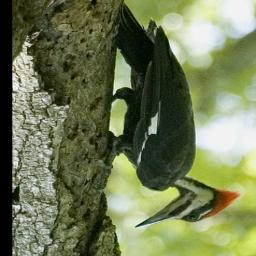Woodpecker: (106, 3, 242, 227)
